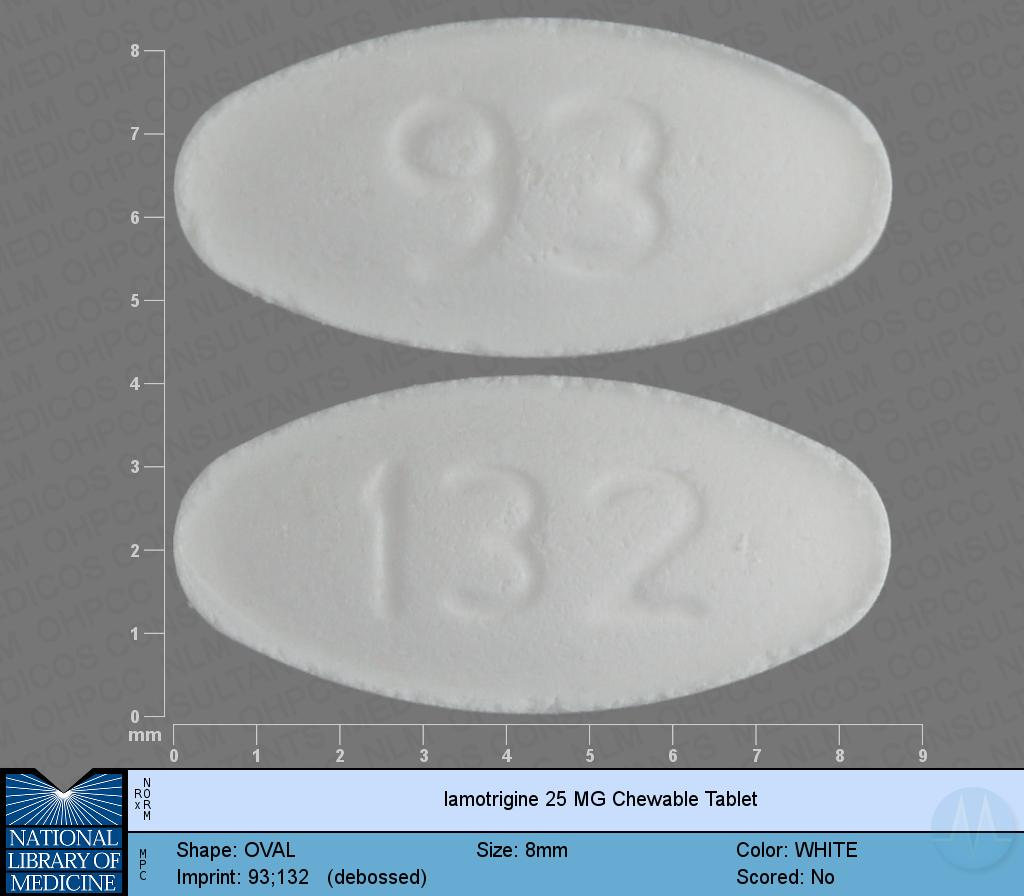Pill: (168, 0, 902, 367), (168, 368, 902, 722)
